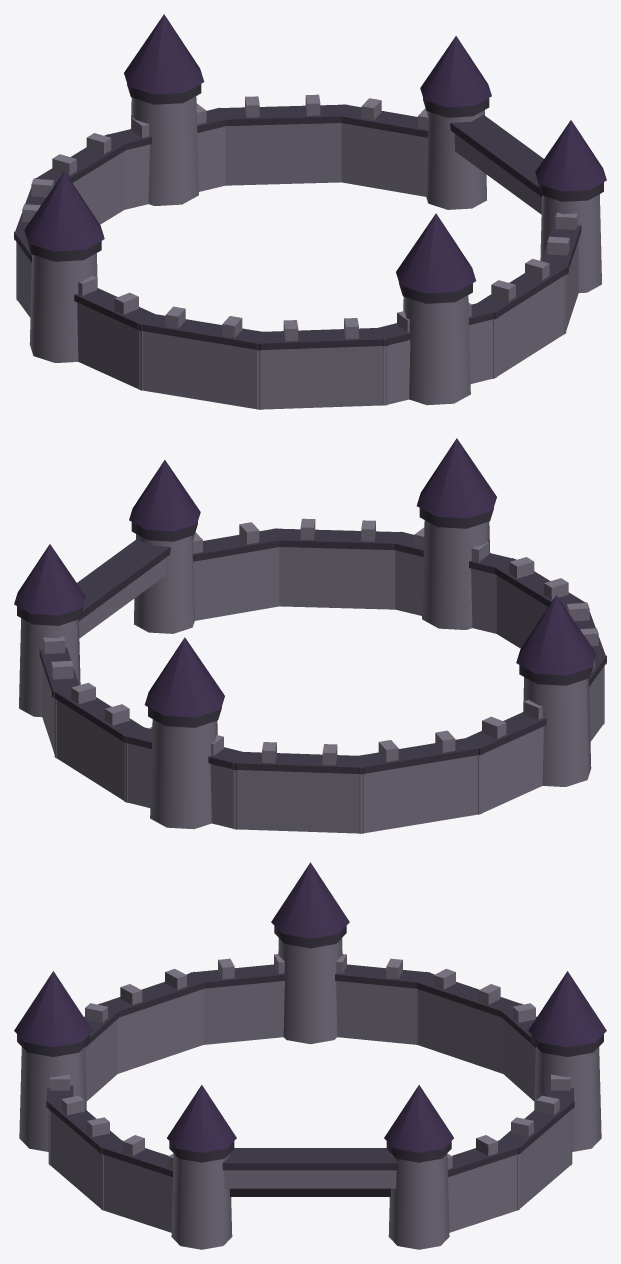
The model's file is base_standard_walls_2.glb.
The picture shows the model from 3 angles, top to bottom: view 1: azimuth 30°, elevation 25°; view 2: azimuth 150°, elevation 25°; view 3: azimuth 270°, elevation 25°; orthographic projection. The views are drawn at different scales.
Parts seen in each view (by area): view 1: wall_8, wall_7, wall_1, tower_270_body, tower_90_body, tower_180_body, wall_0, wall_10, gate_tower_n_body, wall_6, tower_180_roof, tower_90_roof (+26 smaller); view 2: wall_3, wall_4, wall_10, tower_90_body, tower_270_body, tower_180_body, wall_11, wall_1, gate_tower_s_body, wall_5, tower_180_roof, tower_270_roof (+26 smaller); view 3: tower_180_body, gate_tower_n_body, gate_tower_s_body, wall_4, wall_7, wall_5, wall_6, wall_0, wall_11, tower_90_body, tower_270_body, gate_arch_cap (+25 smaller).
Boxes of the visible parts, x1,y1,x2,y2 form: wall_8: (257, 346, 387, 409); wall_7: (139, 330, 261, 409); wall_1: (225, 123, 341, 185); tower_270_body: (403, 295, 470, 405); tower_90_body: (131, 96, 198, 205); tower_180_body: (29, 253, 97, 362); wall_0: (341, 123, 427, 196); wall_10: (493, 274, 566, 378); gate_tower_n_body: (426, 110, 486, 209); wall_6: (77, 302, 142, 390); tower_180_roof: (24, 171, 104, 251); tower_90_roof: (124, 14, 204, 94); wall_3: (233, 770, 363, 833); wall_4: (359, 754, 481, 833); wall_10: (279, 547, 395, 609); tower_90_body: (150, 719, 217, 829); tower_270_body: (422, 520, 489, 629); tower_180_body: (523, 677, 591, 786); wall_11: (193, 547, 279, 620); wall_1: (54, 698, 127, 802); gate_tower_s_body: (134, 534, 194, 633); wall_5: (478, 726, 543, 814); tower_180_roof: (516, 595, 596, 675); tower_270_roof: (416, 438, 496, 518); tower_180_body: (278, 938, 342, 1044); gate_tower_n_body: (388, 1153, 449, 1249); gate_tower_s_body: (171, 1153, 232, 1249); wall_4: (417, 989, 503, 1073); wall_7: (117, 989, 203, 1073); wall_5: (336, 981, 417, 1044); wall_6: (203, 981, 284, 1044); wall_0: (448, 1154, 519, 1232); wall_11: (101, 1154, 172, 1232); tower_90_body: (534, 1047, 601, 1151); tower_270_body: (19, 1047, 86, 1151); gate_arch_cap: (222, 1148, 398, 1170).
Size of the model in its own units: 1.16 by 0.3815 by 1.22.
